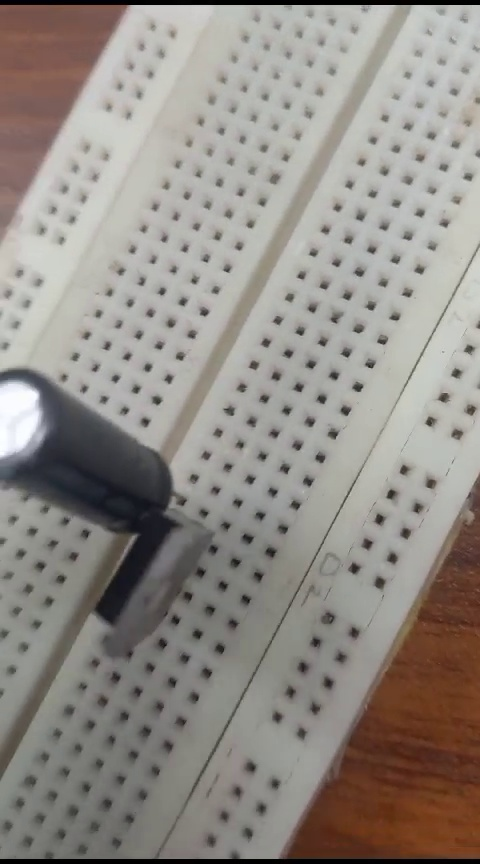capacitor: (6, 347, 176, 533)
voltage regulator: (90, 509, 199, 647)
